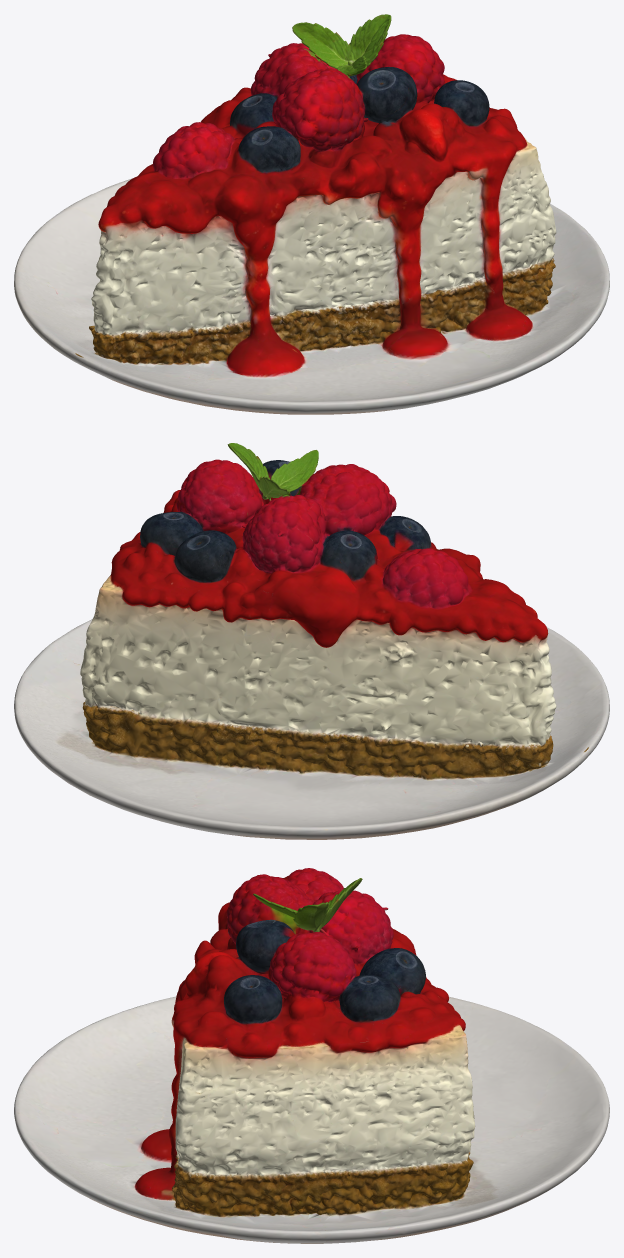
3 renders of one model, top to bottom at view 1: azimuth 30°, elevation 25°; view 2: azimuth 150°, elevation 25°; view 3: azimuth 270°, elevation 25°, orthographic.
Size of the model in its own units: 1.9 by 0.9766 by 1.9.
1 material, 1 textured.
